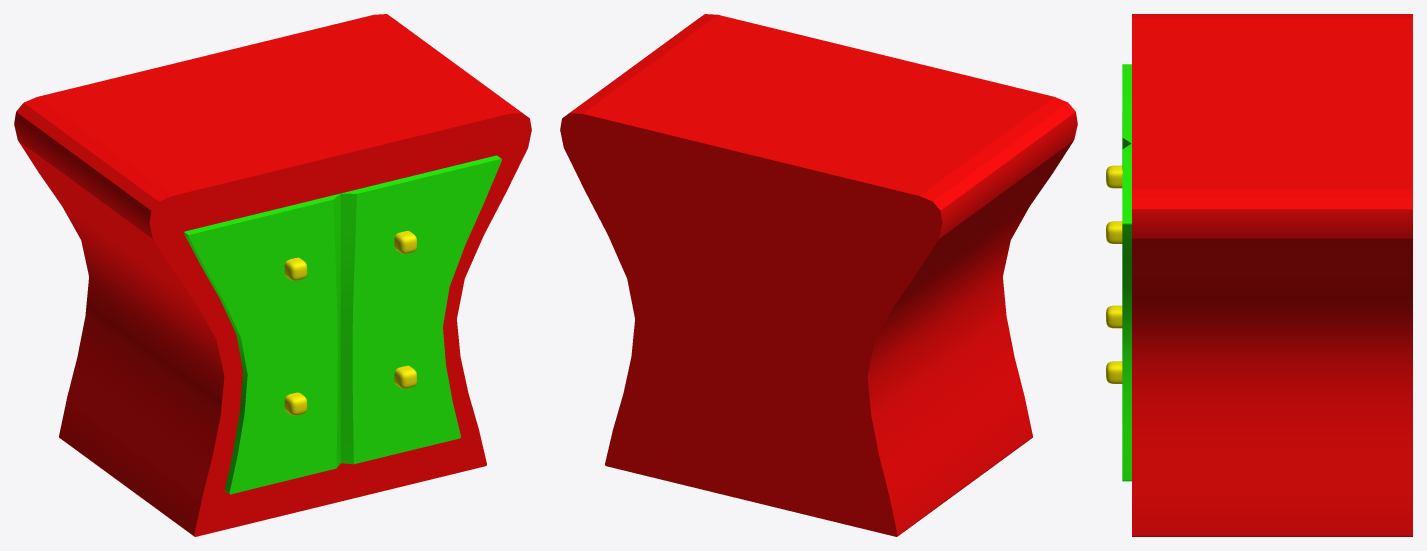
The model's file is umgebung_handtuchschrank__low.FBX.
3 views of the same model, side by side, from view 1: azimuth 30°, elevation 25°; view 2: azimuth 150°, elevation 25°; view 3: azimuth 270°, elevation 25° (orthographic). The views are drawn at different scales.
Parts seen in each view (by area): view 1: o_handtuchschrank_low, o_schranktuer_low; view 2: o_handtuchschrank_low; view 3: o_handtuchschrank_low, o_schranktuer_low, i_griff_low (×3), o_griff_low.
Boxes of the visible parts, x1,y1,x2,y2 form: o_handtuchschrank_low: [14, 14, 531, 536]; o_schranktuer_low: [184, 155, 501, 494]; o_handtuchschrank_low: [560, 14, 1077, 536]; o_handtuchschrank_low: [1132, 14, 1412, 536]; o_schranktuer_low: [1122, 64, 1131, 481]; i_griff_low (×3): [1106, 165, 1122, 383]; o_griff_low: [1106, 221, 1122, 243].
Bounding box in the file's own units: 183 × 158 × 122.
